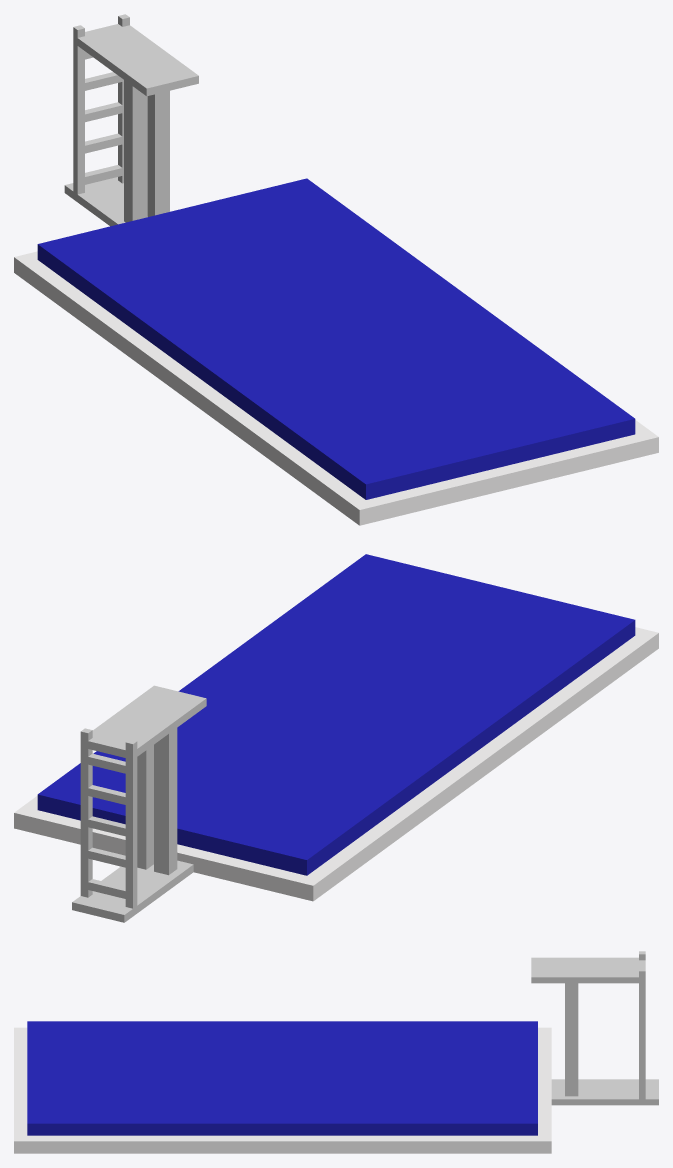
Rendered from voxel_swimming_pool.glb.
3 renders of one model, top to bottom at view 1: azimuth 30°, elevation 25°; view 2: azimuth 150°, elevation 25°; view 3: azimuth 270°, elevation 25°, orthographic. The views are drawn at different scales.
Parts seen in each view (by area): view 1: Object_8, Object_10, Object_24, Object_32, Object_16, Object_26, Object_34, Object_18, Object_40, Object_42, Object_58, Object_12 (+15 smaller); view 2: Object_40, Object_24, Object_16, Object_32, Object_18, Object_8, Object_26, Object_10, Object_34, Object_42, Object_58, Object_56 (+15 smaller); view 3: Object_8, Object_10, Object_16, Object_24, Object_26, Object_32, Object_40, Object_42, Object_18, Object_34, Object_20, Object_28 (+9 smaller).
Boxes of the visible parts, bbox=[...] form: Object_8: bbox=[305, 411, 494, 521]; Object_10: bbox=[425, 382, 613, 492]; Object_24: bbox=[167, 310, 355, 404]; Object_32: bbox=[98, 259, 286, 354]; Object_16: bbox=[236, 360, 424, 455]; Object_26: bbox=[287, 280, 475, 360]; Object_34: bbox=[218, 230, 406, 309]; Object_18: bbox=[356, 331, 544, 410]; Object_40: bbox=[29, 215, 217, 303]; Object_42: bbox=[158, 186, 336, 258]; Object_58: bbox=[85, 99, 169, 218]; Object_12: bbox=[545, 374, 658, 463]; Object_40: bbox=[178, 787, 367, 897]; Object_24: bbox=[317, 685, 505, 780]; Object_16: bbox=[386, 635, 574, 729]; Object_32: bbox=[248, 736, 436, 830]; Object_18: bbox=[266, 605, 454, 685]; Object_8: bbox=[455, 590, 643, 679]; Object_26: bbox=[204, 656, 385, 735]; Object_10: bbox=[336, 561, 514, 634]; Object_34: bbox=[177, 708, 316, 786]; Object_42: bbox=[59, 759, 247, 860]; Object_58: bbox=[72, 747, 178, 918]; Object_56: bbox=[109, 752, 193, 922]; Object_8: bbox=[14, 1021, 121, 1078]; Object_10: bbox=[14, 1066, 121, 1124]; Object_16: bbox=[121, 1021, 228, 1066]; Object_24: bbox=[229, 1021, 336, 1066]; Object_26: bbox=[229, 1066, 336, 1111]; Object_32: bbox=[336, 1021, 443, 1066]; Object_40: bbox=[444, 1021, 551, 1078]; Object_42: bbox=[444, 1066, 551, 1124]; Object_18: bbox=[121, 1066, 228, 1111]; Object_34: bbox=[336, 1066, 443, 1111]; Object_20: bbox=[121, 1112, 228, 1153]; Object_28: bbox=[229, 1112, 336, 1153].
Size of the model in its own units: 40 by 22 by 96.
Materials: 1 (1 with a texture image).
